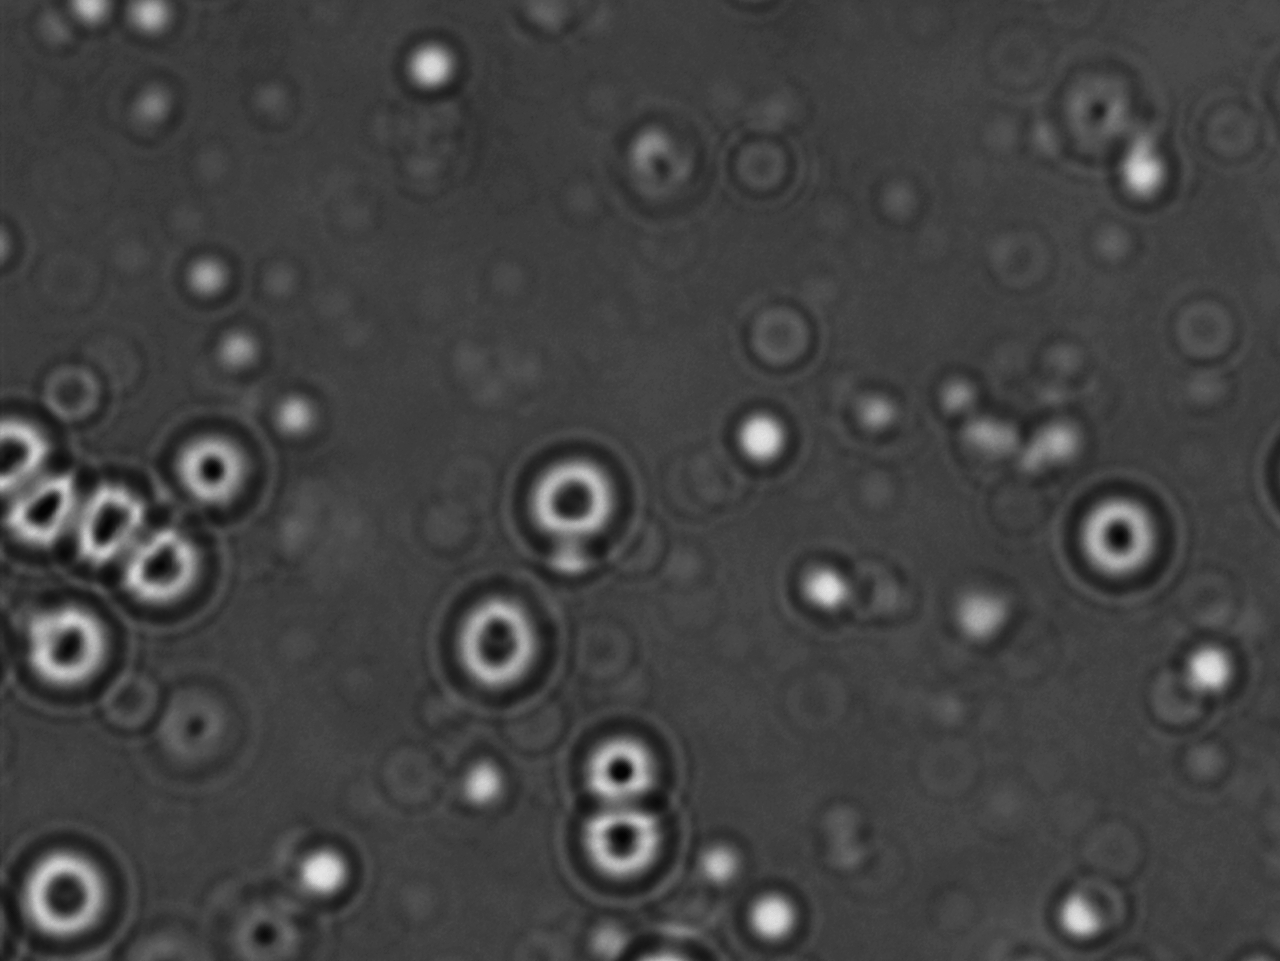depth:16: (1052, 459, 1192, 599), (426, 571, 560, 705), (502, 430, 635, 563), (558, 697, 695, 818), (137, 402, 269, 525), (9, 826, 139, 947), (102, 497, 226, 622), (10, 588, 129, 715), (565, 788, 695, 900), (67, 465, 173, 576)
